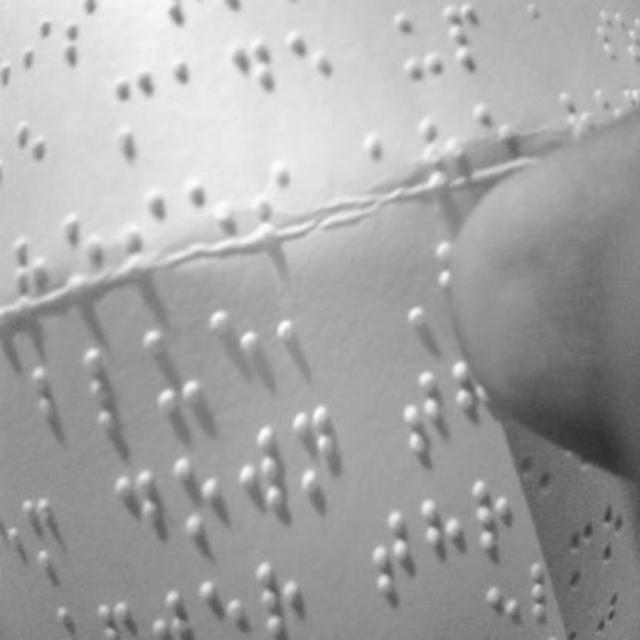braiile: (144, 319, 210, 415), (238, 419, 292, 529), (292, 404, 346, 512), (208, 301, 266, 399), (108, 462, 164, 562), (228, 31, 282, 132), (368, 502, 420, 606), (85, 346, 143, 438), (170, 449, 224, 547), (286, 17, 338, 117), (256, 542, 308, 640), (422, 492, 472, 592), (400, 367, 454, 457), (32, 354, 82, 450), (170, 47, 218, 145), (276, 290, 328, 378), (390, 3, 448, 81), (110, 65, 158, 158), (470, 473, 516, 559), (21, 491, 68, 575), (449, 1, 493, 73)
